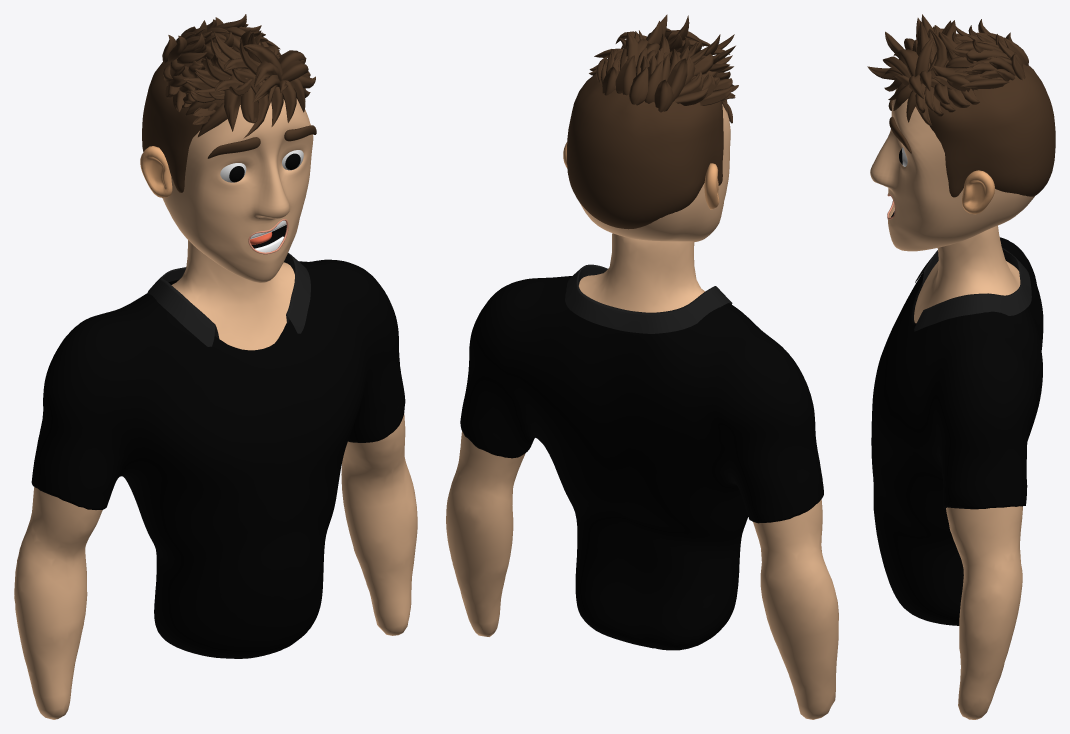
The model's file is myCharacter8.glb.
3 renders of one model, left to right at view 1: azimuth 30°, elevation 25°; view 2: azimuth 150°, elevation 25°; view 3: azimuth 270°, elevation 25°, orthographic. The views are drawn at different scales.
Visible parts, largest first — view 1: Kunas, Galva; view 2: Kunas, Galva; view 3: Kunas, Galva.
Boxes of the visible parts, <box> form: Kunas: <box>14,240,417,719</box>; Galva: <box>140,14,316,282</box>; Kunas: <box>446,233,838,719</box>; Galva: <box>563,14,738,241</box>; Kunas: <box>871,225,1043,719</box>; Galva: <box>867,14,1055,251</box>.
Bounding box in the file's own units: 0.4827 × 0.7741 × 0.2142.
2 materials, 2 textured.
